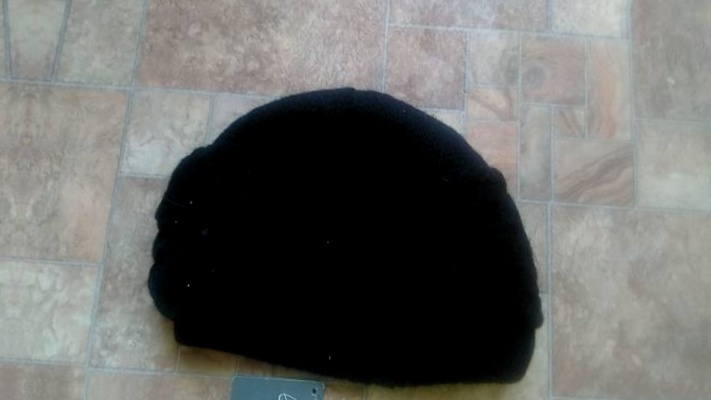Hat: (138, 52, 590, 400)
